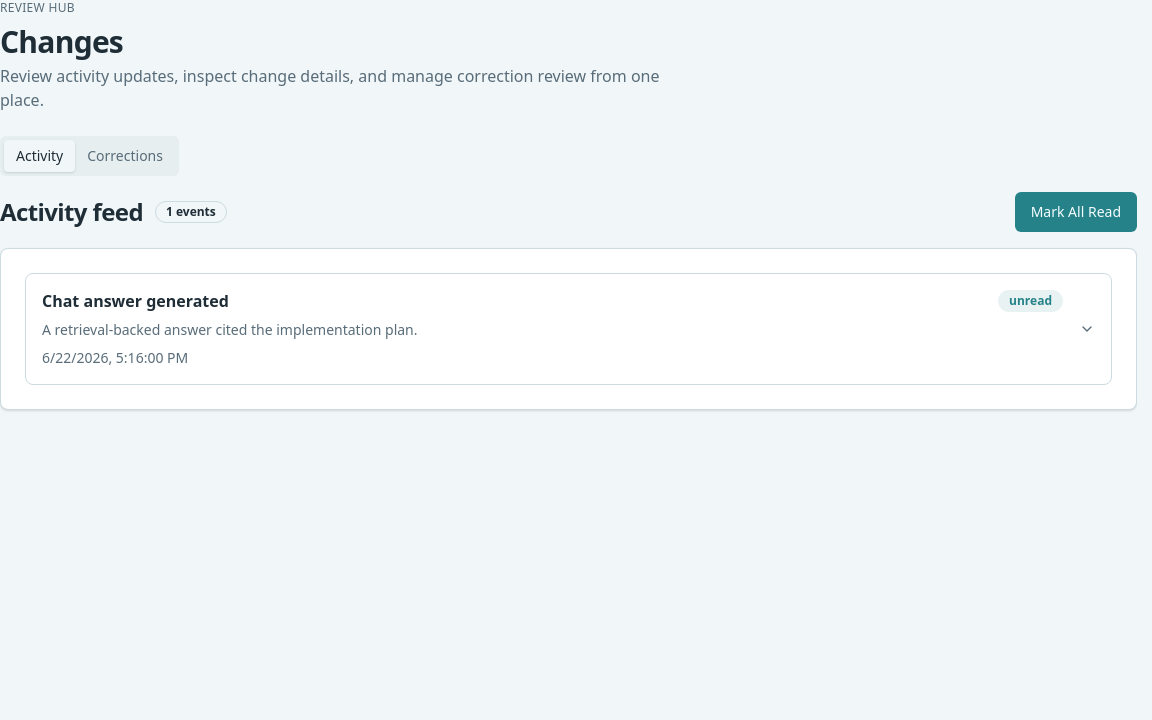
Scenario: ChangesPage › loads change detail on first expand, keeps it cached, and marks the item as read without refetching detail
The width and height of the screenshot is (1152, 720).
Click the button "Chat answer generated" at (135, 301), box [26,274,1111,384]
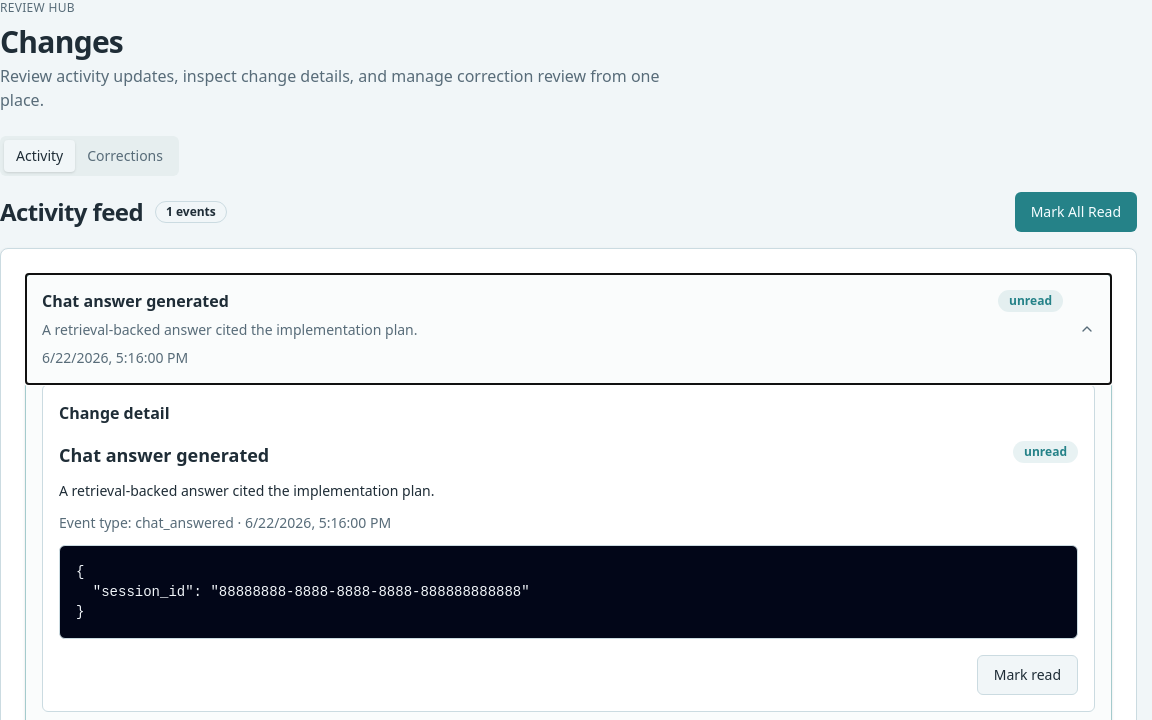
Now the button "Mark read" is shown, box [977,655,1078,695]
Click the button "Chat answer generated" at (135, 301), box [26,274,1111,384]
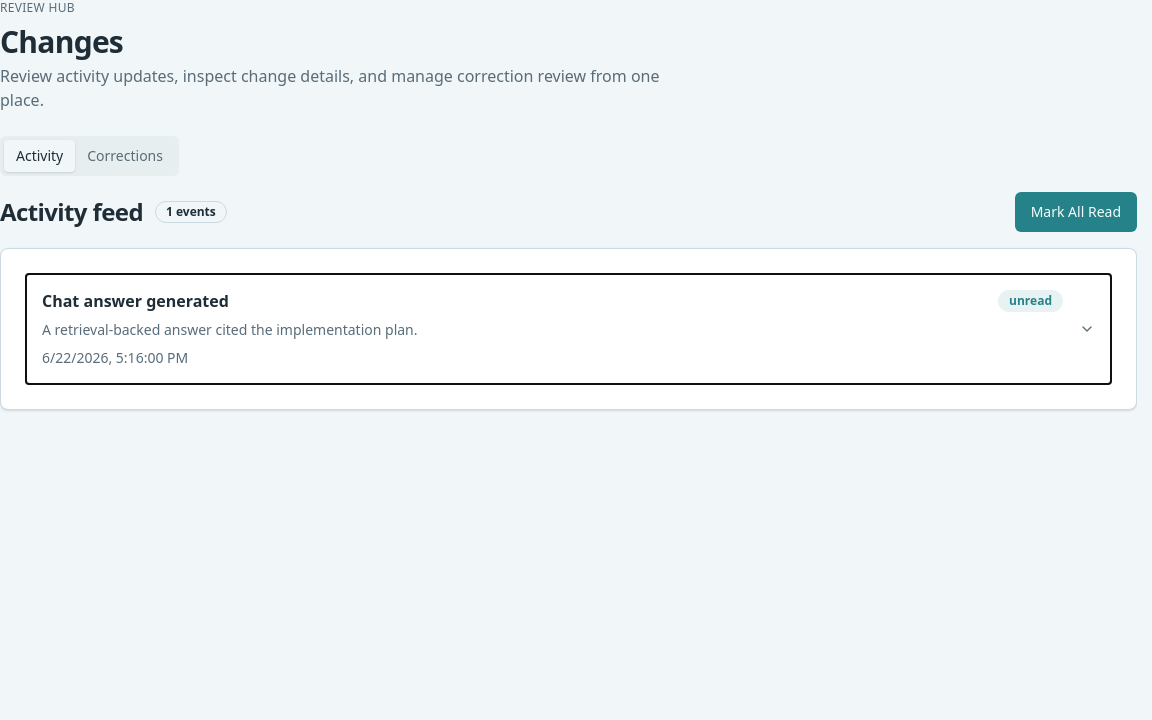
Now the button "Chat answer generated" is collapsed
Now the button "Mark read" is gone
Click the button "Chat answer generated" at (135, 301), box [26,274,1111,384]
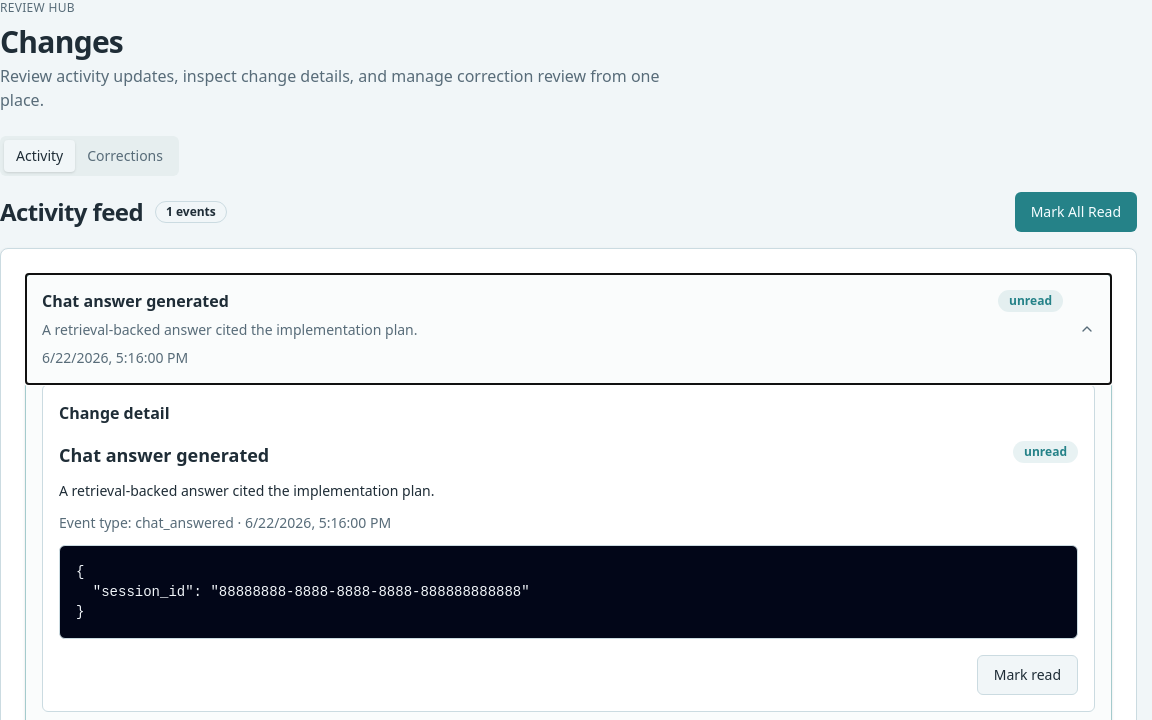
Now the button "Chat answer generated" is expanded, box [26,274,1111,384]
Now the button "Mark read" is shown
Click the button "Mark read" at (1027, 675), box [977,655,1078,695]
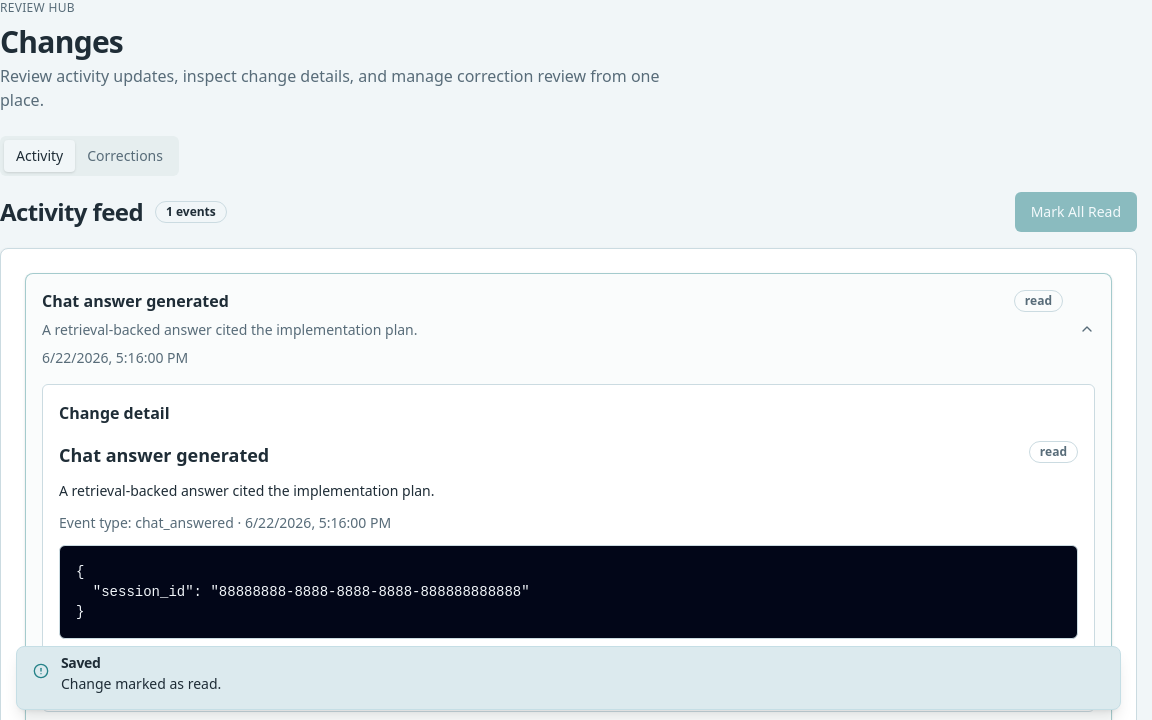
Expected: the 1st text "read" is shown, [1014,290,1063,312]
Now the message with test id "changes-action-banner" shows "Saved", box [61,653,100,672]
Now the message with test id "changes-action-banner" shows "Change marked as read.", box [61,674,221,693]
